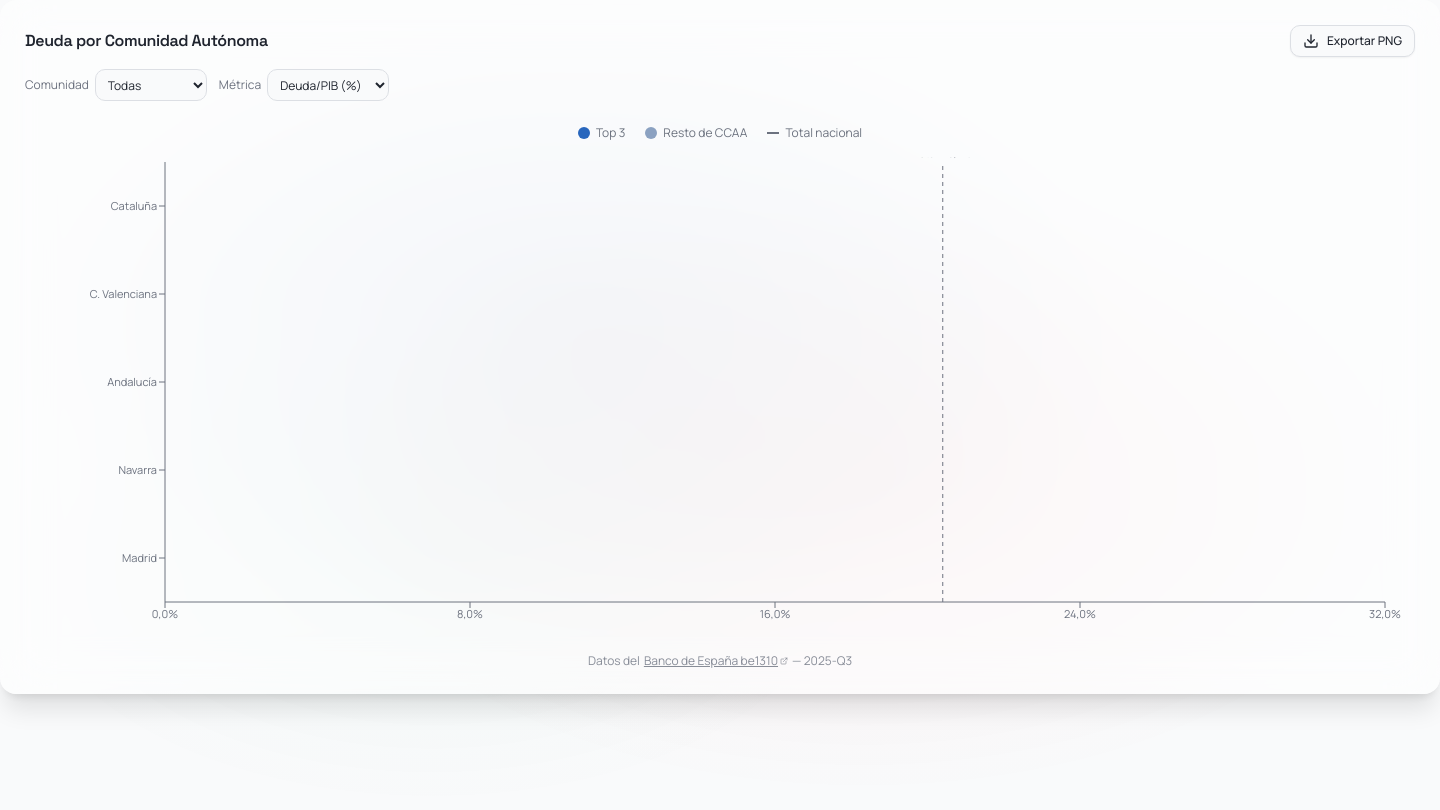
Test case: CcaaDebtBlock › muestra detalle y proxies al seleccionar comunidad
Select "C. Valenciana" in the dropdown labelled "Comunidad" at (151, 85), box 95,69 -> 207,101
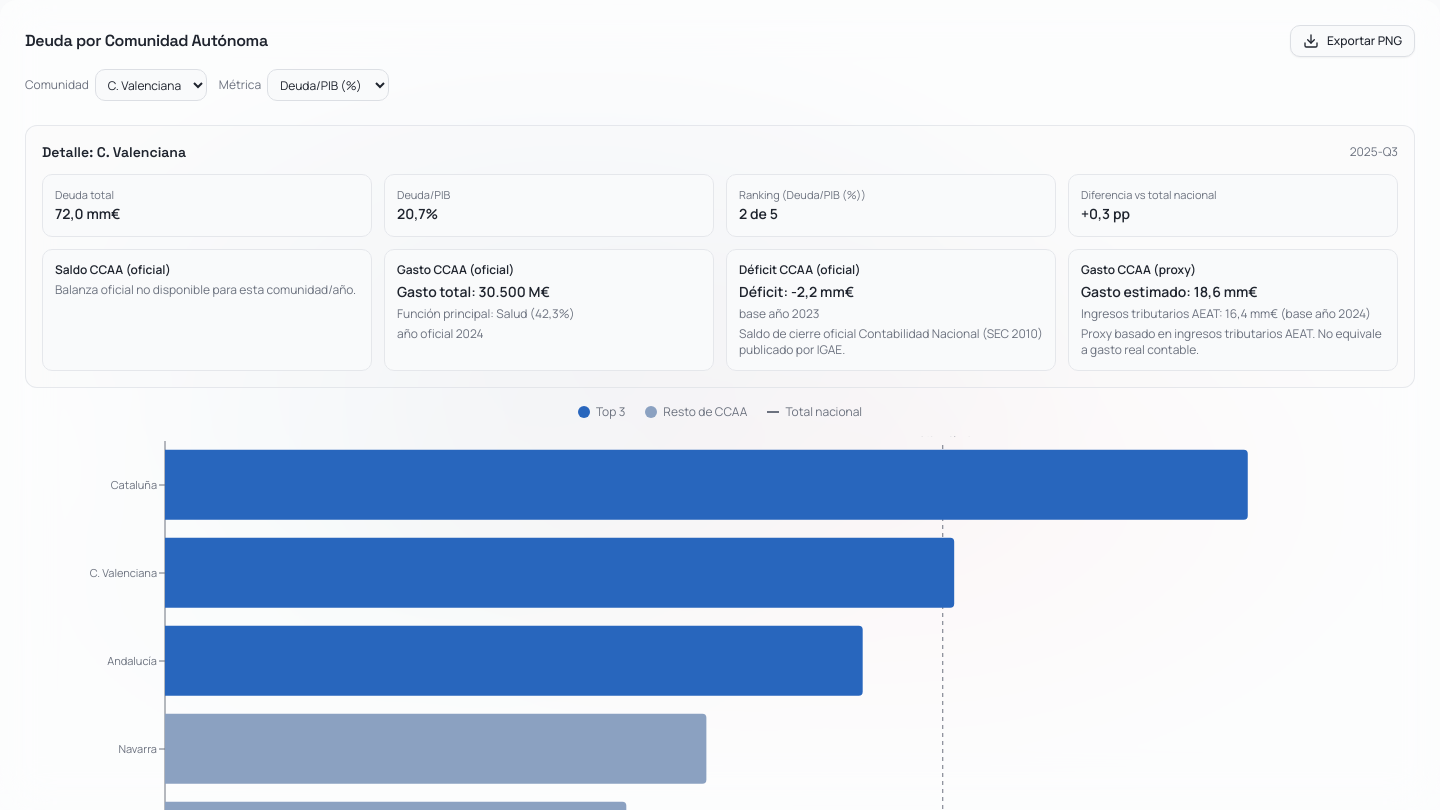
Expected: the heading "Detalle: C. Valenciana" is shown, 42,142 -> 186,162
Expected: the text "Gasto total: 30.500 M€" is shown, 397,282 -> 550,300
Expected: the text "Ingresos tributarios AEAT: 16,4 mm€ (base año 2024)" is shown, 1081,306 -> 1385,322
